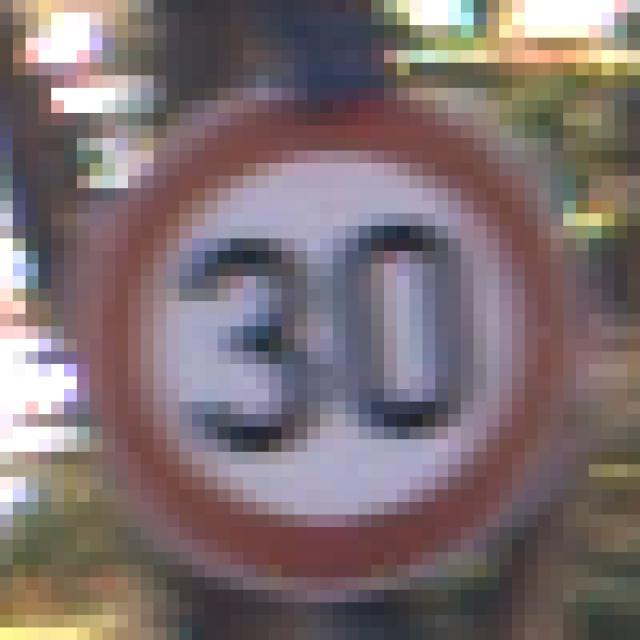Speed Limit -30-: (70, 56, 570, 558)
